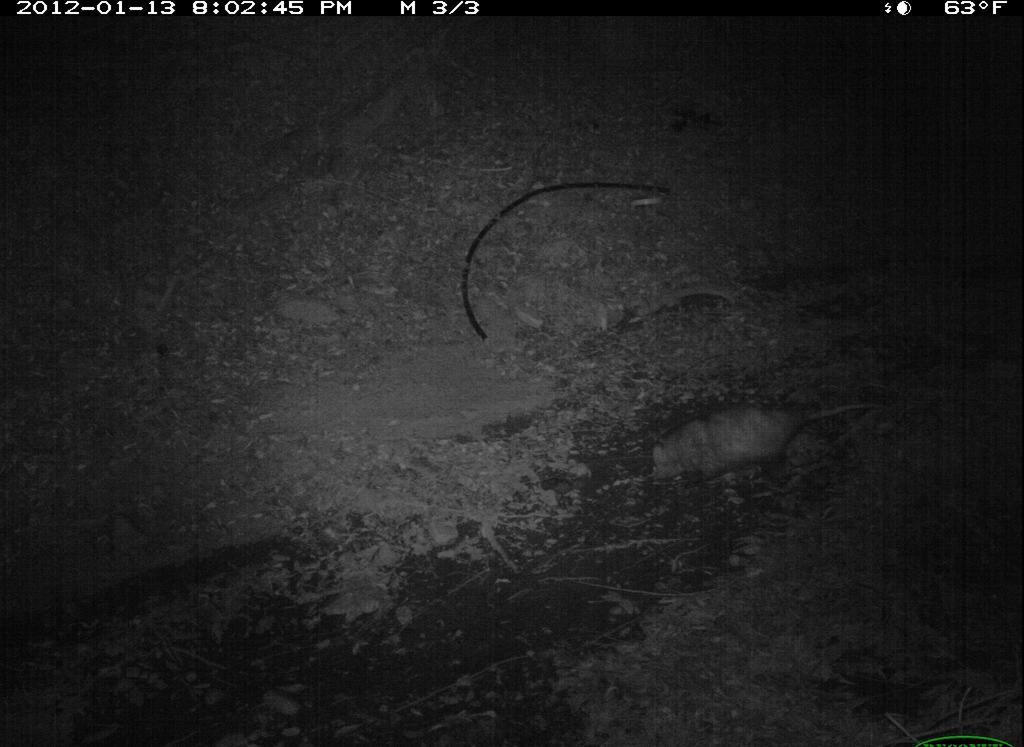opossum: (638, 377, 885, 491)
